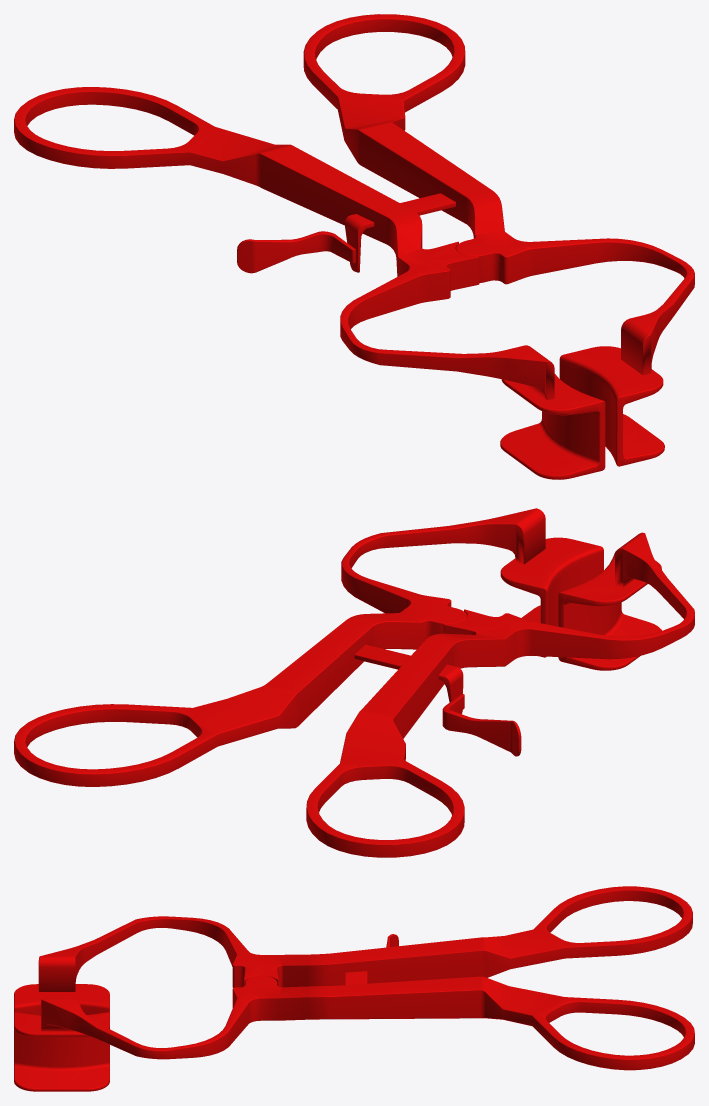
Rendered from Medical_instrument_10.fbx.
3 renders of one model, top to bottom at view 1: azimuth 30°, elevation 25°; view 2: azimuth 150°, elevation 25°; view 3: azimuth 270°, elevation 25°, orthographic. The views are drawn at different scales.
Parts seen in each view (by area): view 1: L40:polySurface1423; view 2: L40:polySurface1423; view 3: L40:polySurface1423.
Part boxes in pixels (box(x1,y1,x2,y2)): L40:polySurface1423: box(14, 14, 694, 479); L40:polySurface1423: box(14, 508, 694, 857); L40:polySurface1423: box(14, 886, 694, 1091).
Size of the model in its own units: 15.95 by 4.41 by 26.49.
